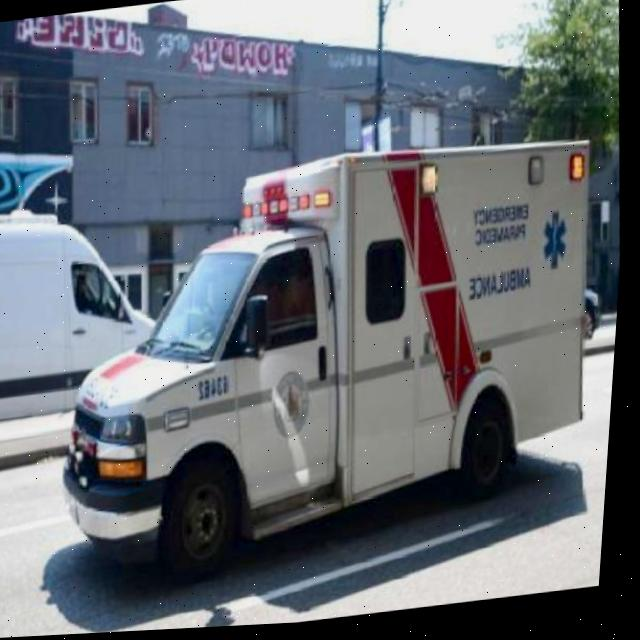emergency: (42, 126, 623, 595)
